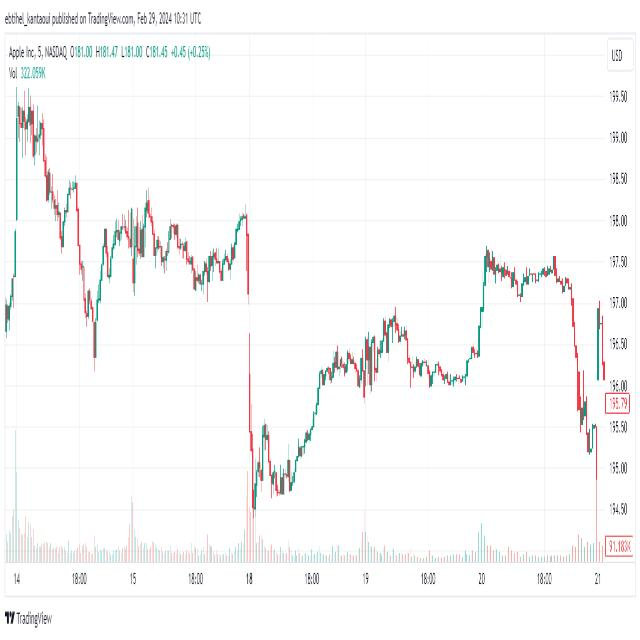Descending-Triangle: (377, 288, 465, 389), (141, 162, 203, 270)
Double-Bottom: (76, 254, 104, 341)
Rounding-Top: (473, 240, 581, 422)
Triangle: (246, 398, 309, 529)
